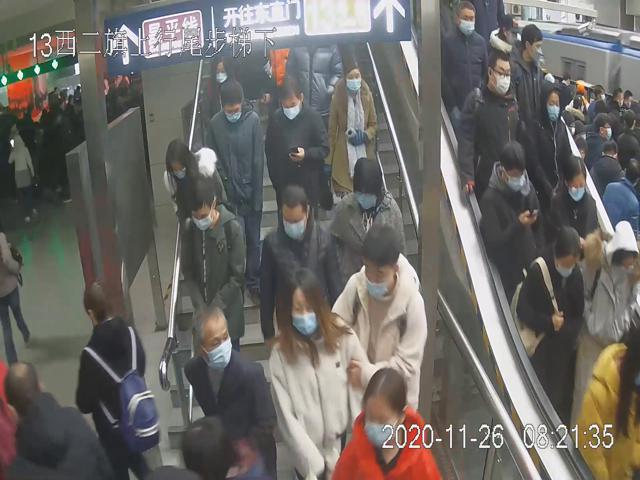person: (271, 261, 358, 480), (331, 223, 428, 416), (185, 304, 275, 471), (210, 80, 264, 303), (180, 175, 243, 355), (329, 156, 406, 301), (258, 184, 332, 332), (457, 52, 526, 203), (480, 140, 545, 294), (266, 76, 330, 216), (328, 54, 378, 196), (161, 137, 225, 225), (443, 2, 488, 104), (201, 54, 241, 129)
